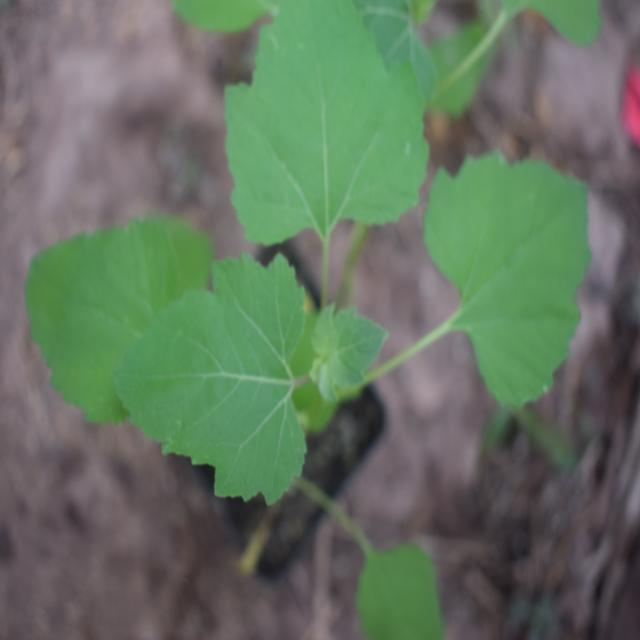cocklebur: (39, 50, 579, 488)
